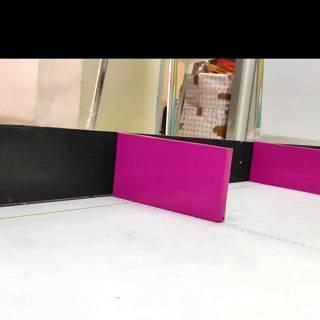xparking: (113, 132, 231, 223), (251, 142, 320, 196)
